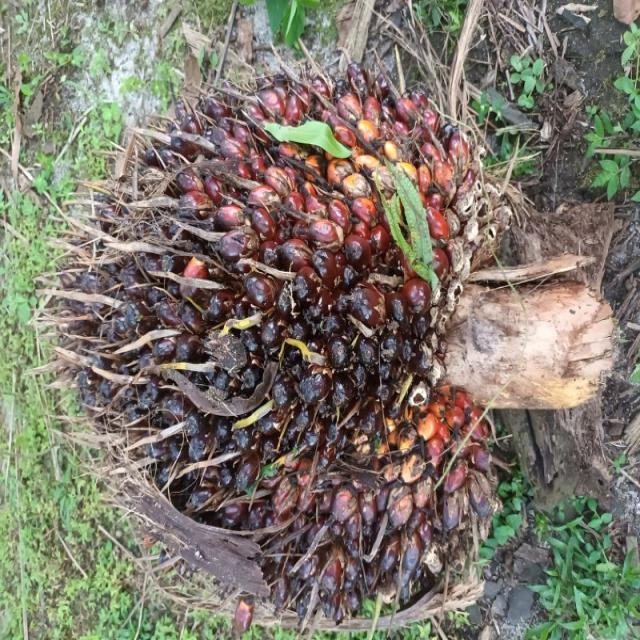fraksi 00: (16, 4, 437, 640)
